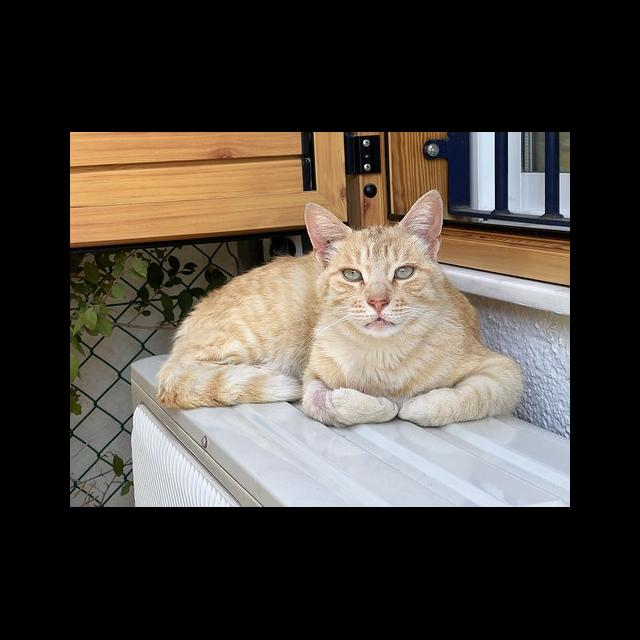animals: (158, 189, 523, 431)
